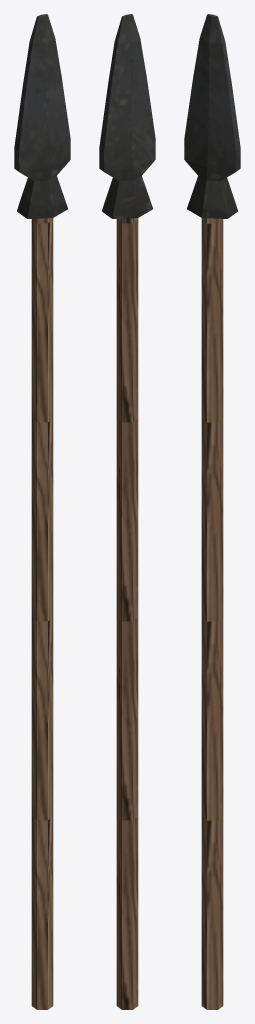
The model's file is LP_Spear.glb.
3 views of the same model, side by side, from view 1: azimuth 30°, elevation 25°; view 2: azimuth 210°, elevation 25°; view 3: azimuth 330°, elevation 25° (orthographic).
Visible parts, largest first — view 1: Cylinder; view 2: Cylinder; view 3: Cylinder.
Part boxes in pixels (box(x1,y1,x2,y2)): Cylinder: box(14, 14, 70, 1009); Cylinder: box(99, 14, 155, 1009); Cylinder: box(184, 14, 240, 1009).
Size of the model in its own units: 0.1038 by 1.9 by 0.0741.
2 materials, 2 textured.
